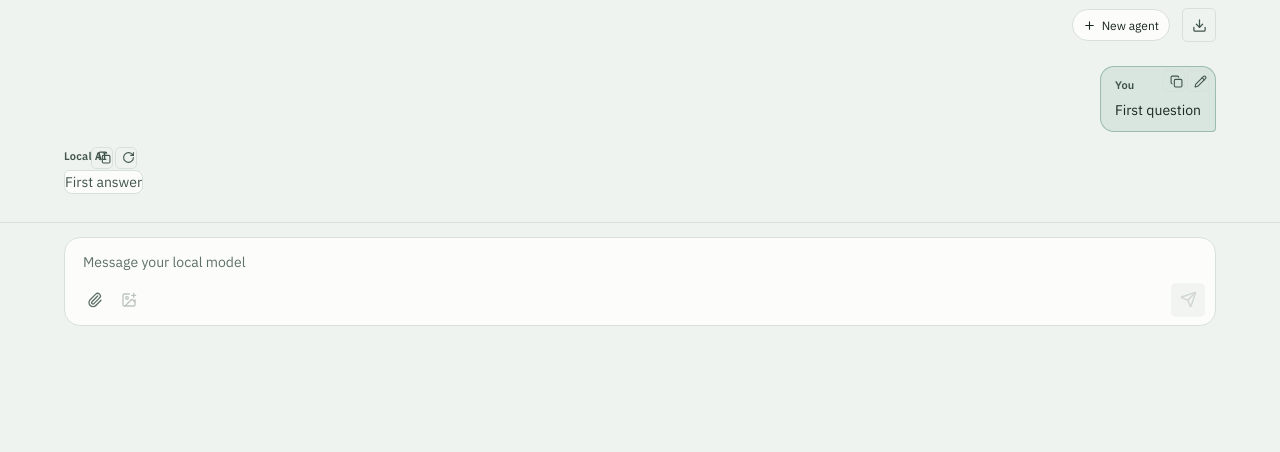
Test case: LocalAIChat › edits a user turn and resends from that point
Click the button named "Edit message" at [1198, 81], box [1187,70,1209,92]
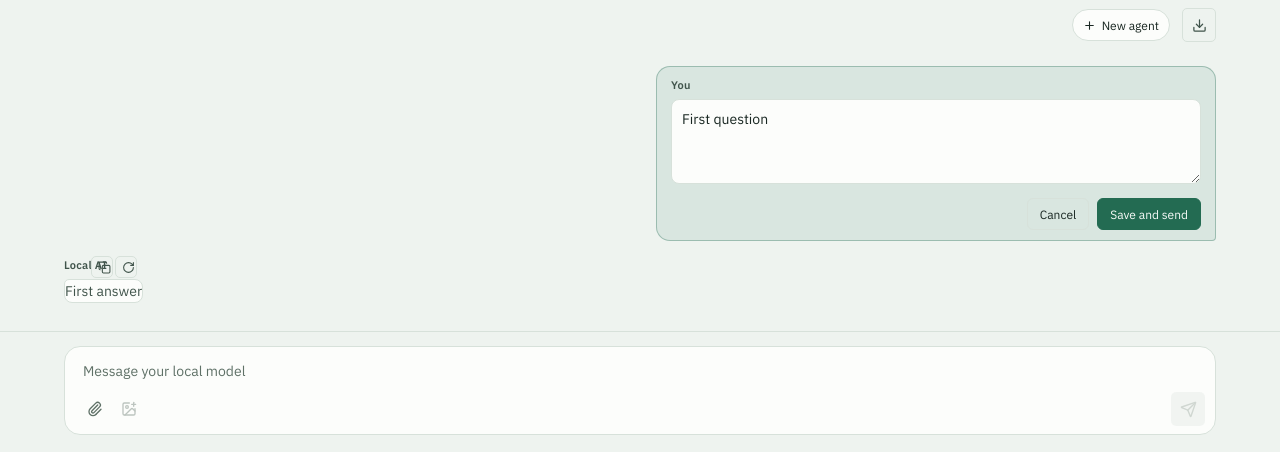
Replace the text in the text box named "Edit message" with "Edited question" at [936, 141], box [671,99,1201,184]
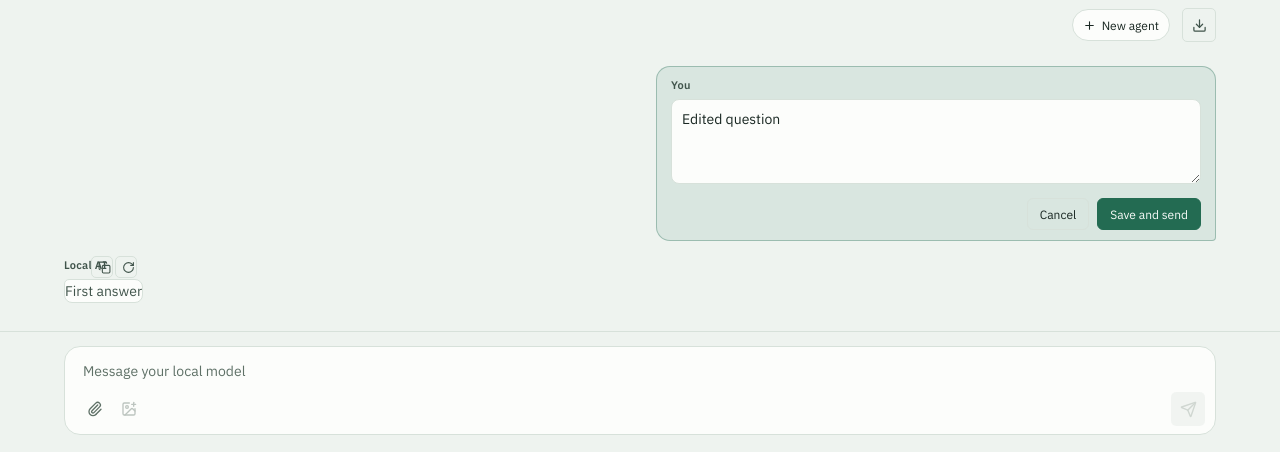
Click the button "Save and send" at [1149, 214], box [1097,198,1201,230]
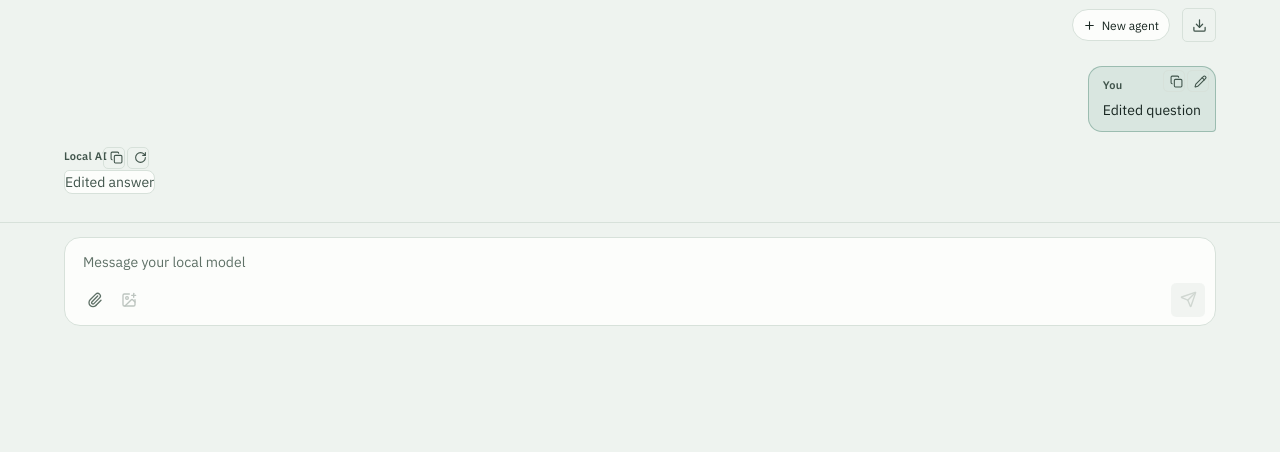
Expected: the text "Edited answer" is shown, [65,171,154,193]
